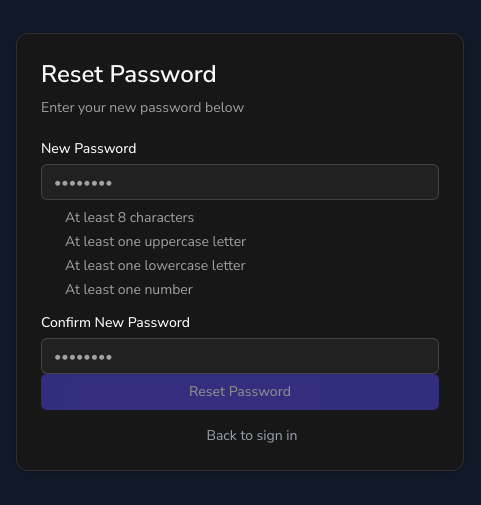
Test: ResetPasswordPage › shows success message after password reset
Type "ValidPass1" into the password field labelled "New Password" at (240, 182), box [41, 164, 439, 200]
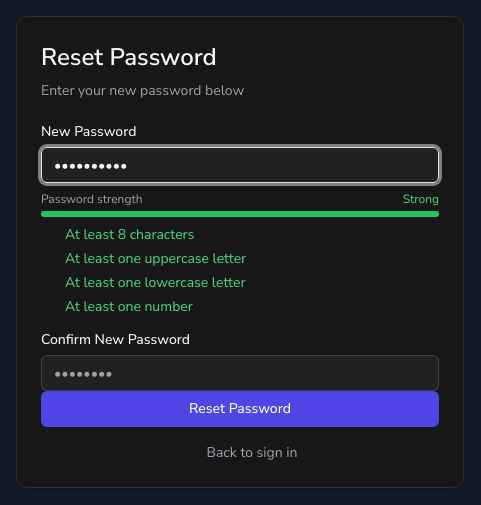
Type "ValidPass1" into the password field labelled "Confirm New Password" at (240, 373), box [41, 355, 439, 391]
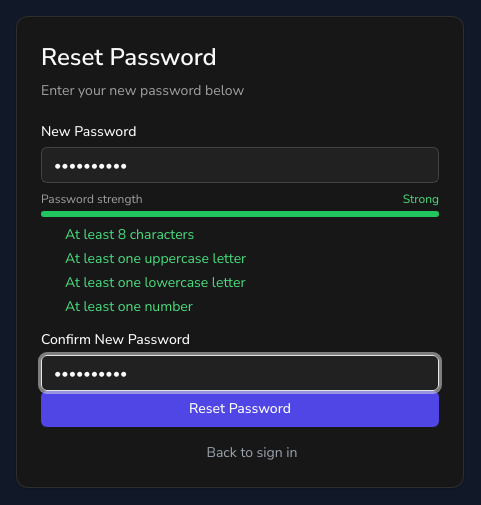
Click the button "Reset Password" at (240, 409), box [41, 391, 439, 427]
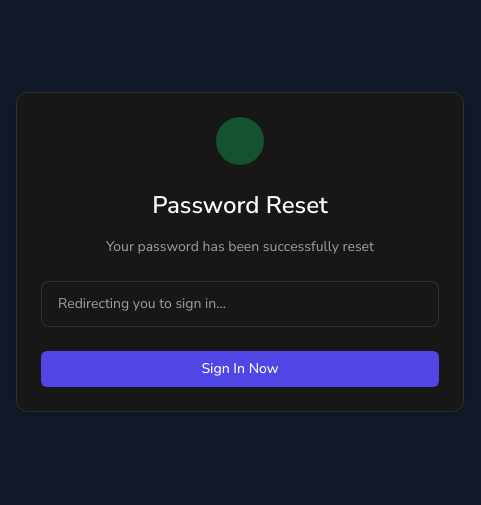
Expected: the text "Your password has been successfully reset" is shown, [106, 237, 374, 256]
